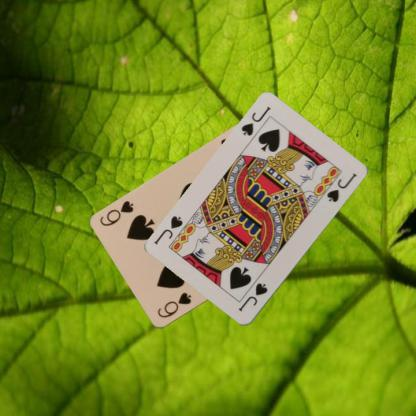6s: (154, 290, 193, 320)
Js: (239, 104, 272, 138), (236, 281, 269, 313)
